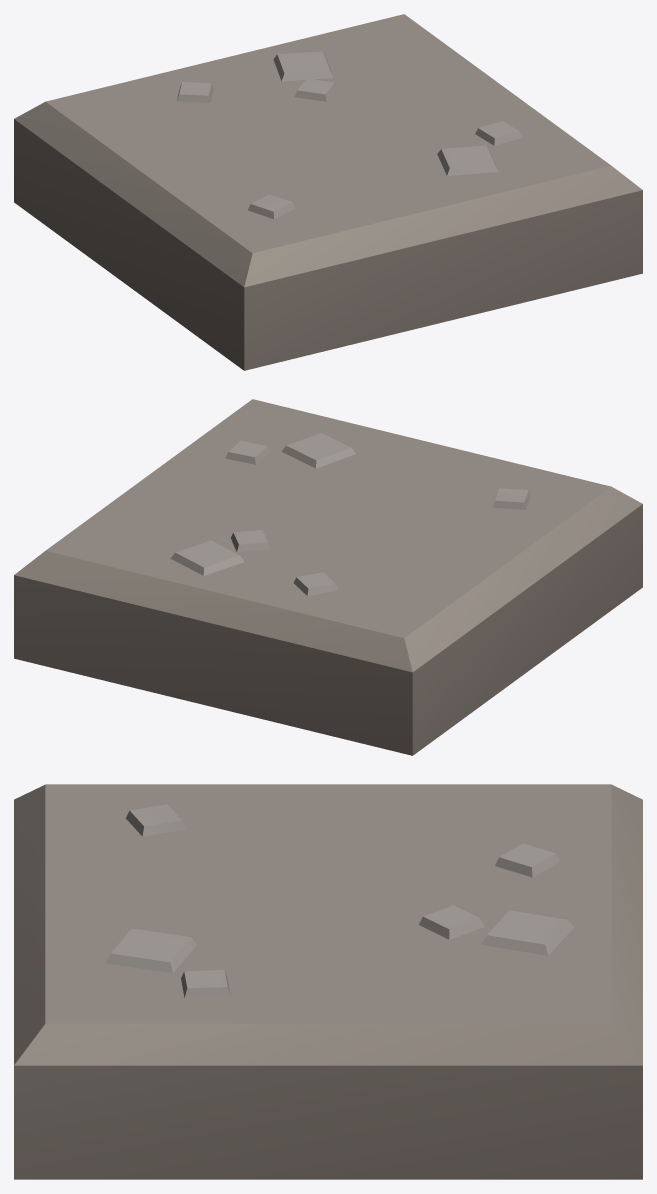
The model's file is Floor Dirt Small.glb.
The picture shows the model from 3 angles, top to bottom: view 1: azimuth 30°, elevation 25°; view 2: azimuth 150°, elevation 25°; view 3: azimuth 270°, elevation 25°; orthographic projection. The views are drawn at different scales.
Parts seen in each view (by area): view 1: floor_dirt_small; view 2: floor_dirt_small; view 3: floor_dirt_small.
Boxes of the visible parts, box(x1,y1,x2,y2) form: floor_dirt_small: box(14, 14, 642, 370); floor_dirt_small: box(14, 399, 642, 755); floor_dirt_small: box(14, 784, 642, 1179).
Bounding box in the file's own units: 2 × 0.53 × 2.
Materials: 1 (1 with a texture image).
